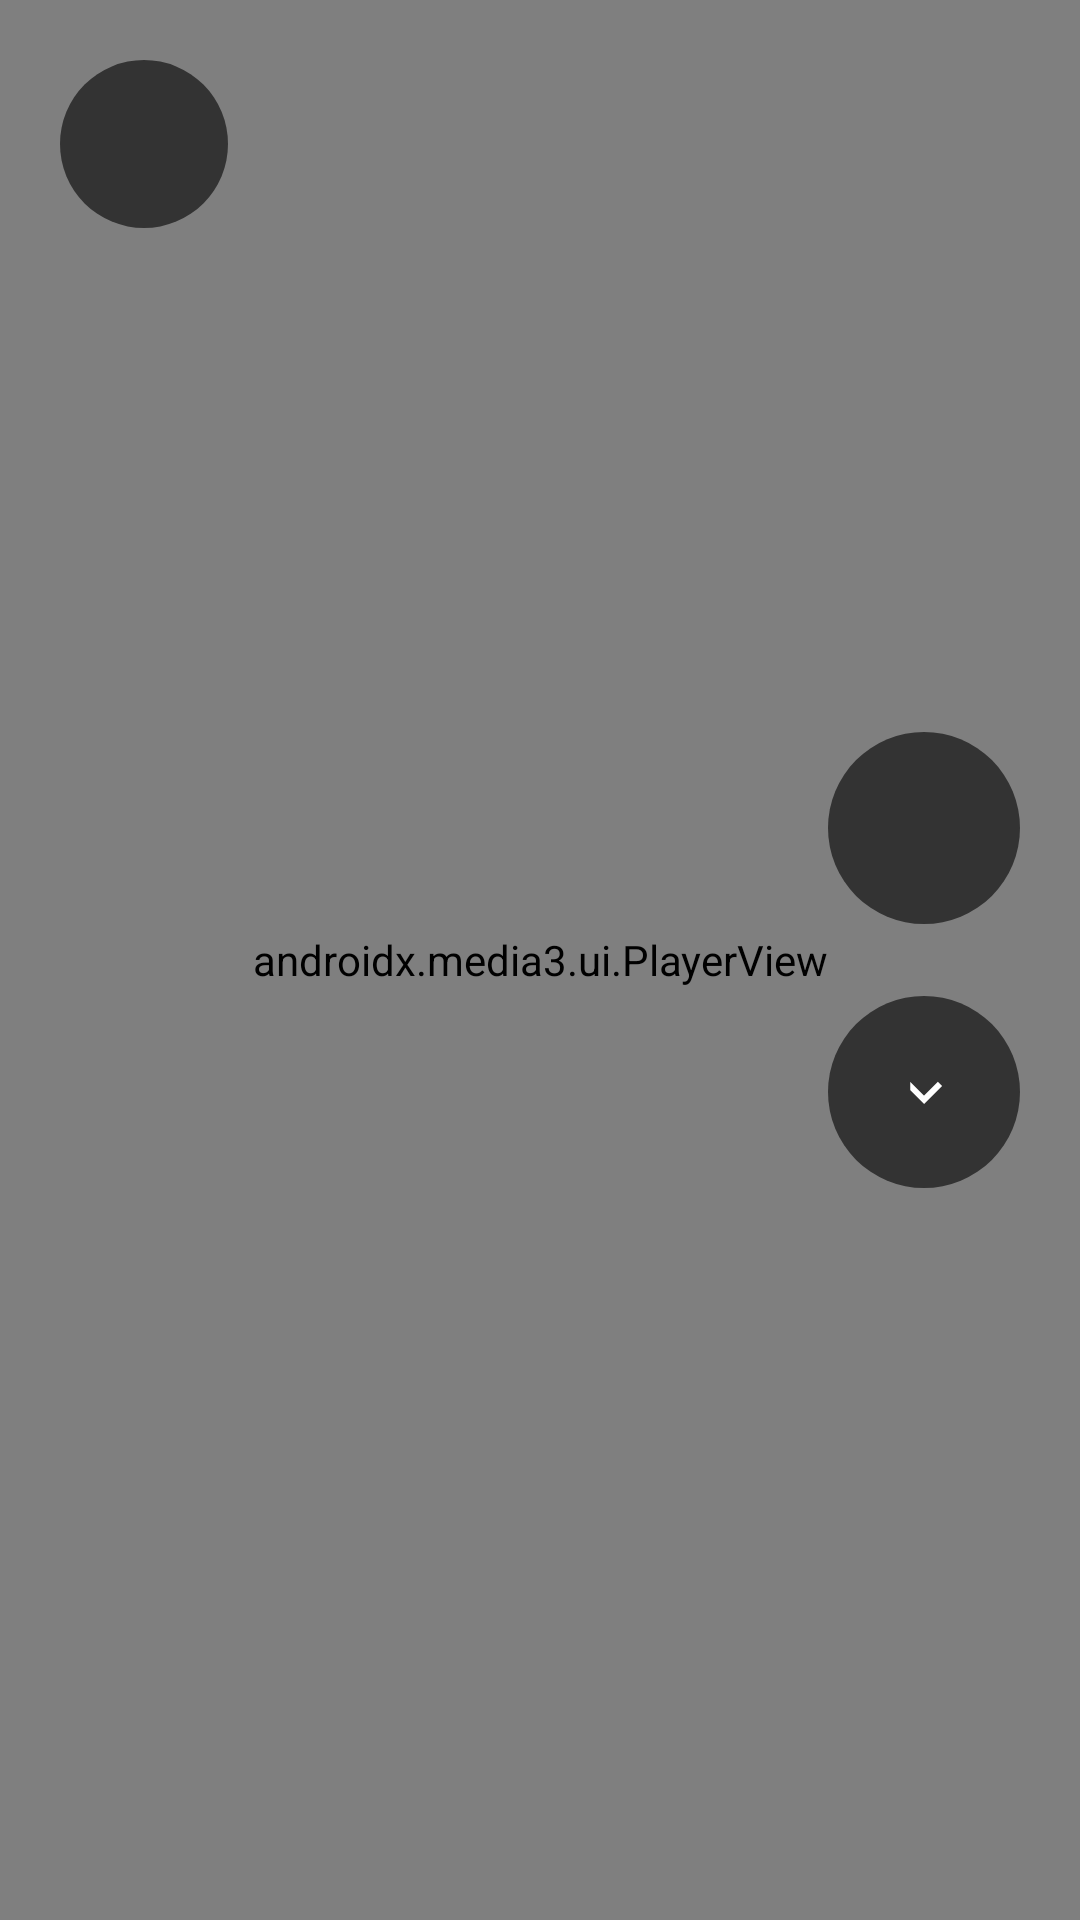

Screen size 1080x1920. Icon name, then its box in pixels as (x1, y1, x2, y2):
Next channel: (828, 996, 1020, 1188)
